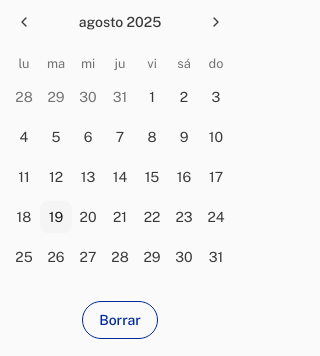
Test case: FilterDate › Clear button › should execute clearDates when clicking clear
Click the button "Borrar": point(120, 320) [82,301,158,339]
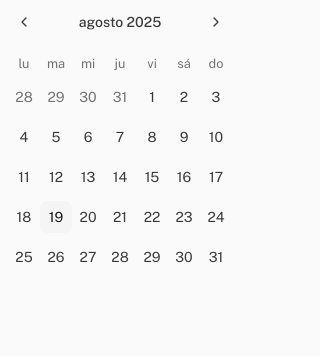
Expected: the button "Borrar" is gone
